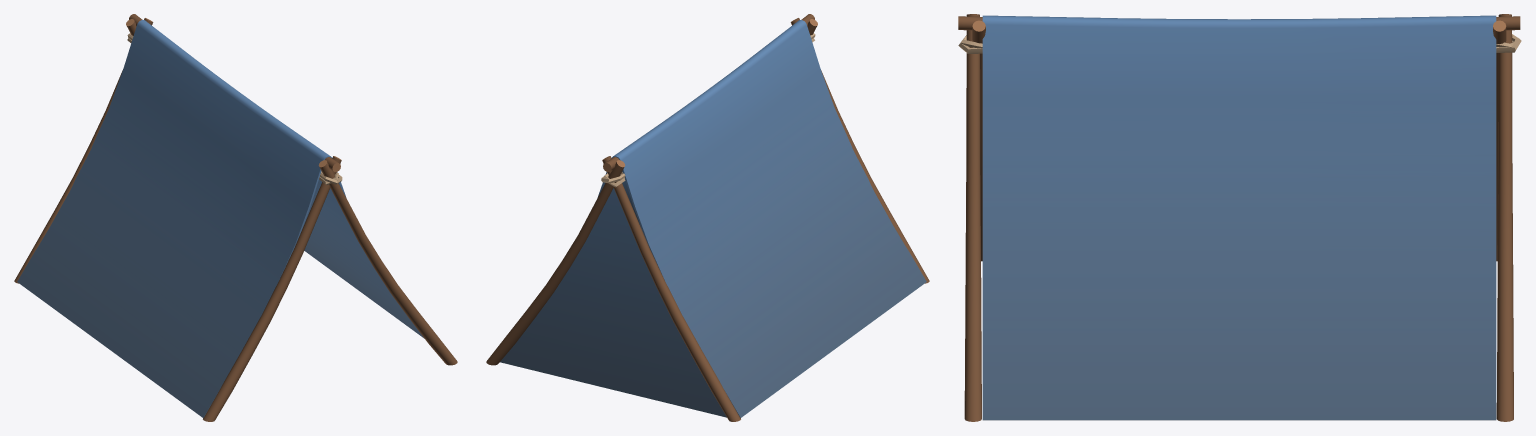
The model's file is Tent_02.fbx.
3 views of the same model, side by side, from view 1: azimuth 30°, elevation 25°; view 2: azimuth 150°, elevation 25°; view 3: azimuth 270°, elevation 25° (orthographic). The views are drawn at different scales.
Visible parts, largest first — view 1: Tent_02_LOD0; view 2: Tent_02_LOD0; view 3: Tent_02_LOD0.
Part boxes in pixels (<box>): Tent_02_LOD0: <box>14,14,457,421</box>; Tent_02_LOD0: <box>486,14,929,421</box>; Tent_02_LOD0: <box>958,14,1521,421</box>.
Size of what is drawn, in the model's own units: 0.7732 by 0.6871 by 1.09.
